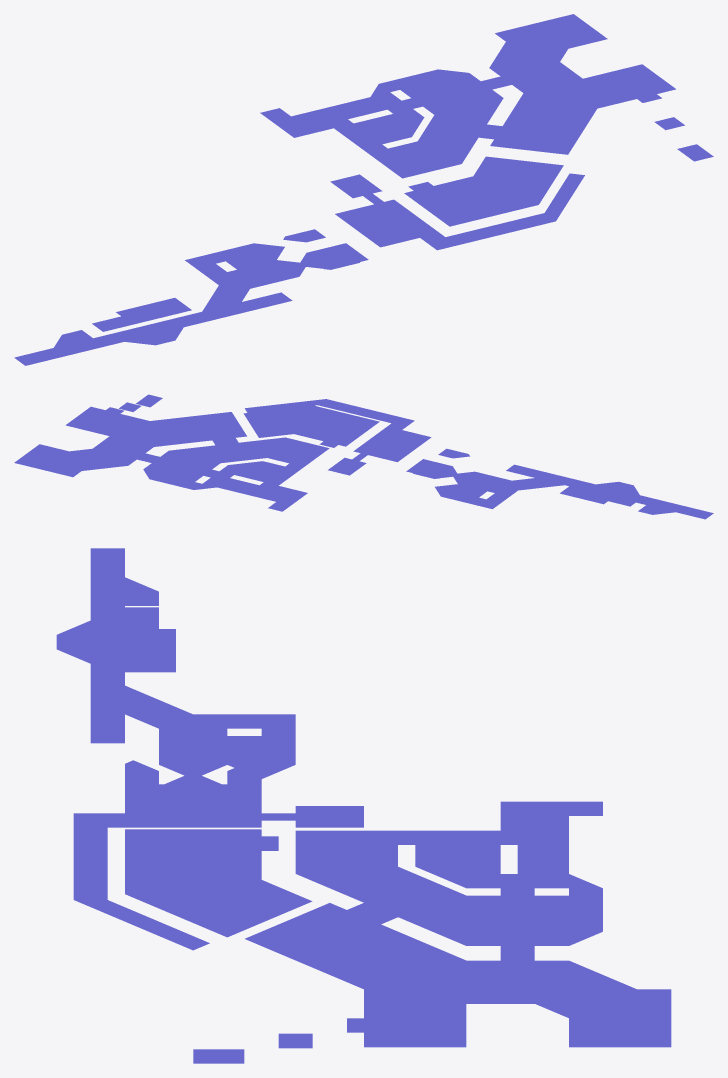
File: Encounter_002_Floor.fbx
The picture shows the model from 3 angles, top to bottom: view 1: azimuth 30°, elevation 25°; view 2: azimuth 150°, elevation 25°; view 3: azimuth 270°, elevation 25°; orthographic projection. The views are drawn at different scales.
Visible parts, largest first — view 1: Encounter_002_Floor; view 2: Encounter_002_Floor; view 3: Encounter_002_Floor.
Part boxes in pixels (left/top/right/bottom): Encounter_002_Floor: left=14, top=14, right=713, bottom=365; Encounter_002_Floor: left=14, top=394, right=713, bottom=519; Encounter_002_Floor: left=56, top=548, right=671, bottom=1063.
Bounding box in the file's own units: 15000 × 550 × 7200.
